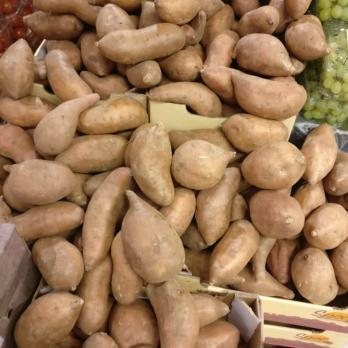Sweet potato: (66, 155, 348, 303), (32, 1, 309, 150), (1, 38, 73, 219), (14, 291, 239, 348), (21, 203, 105, 291)
